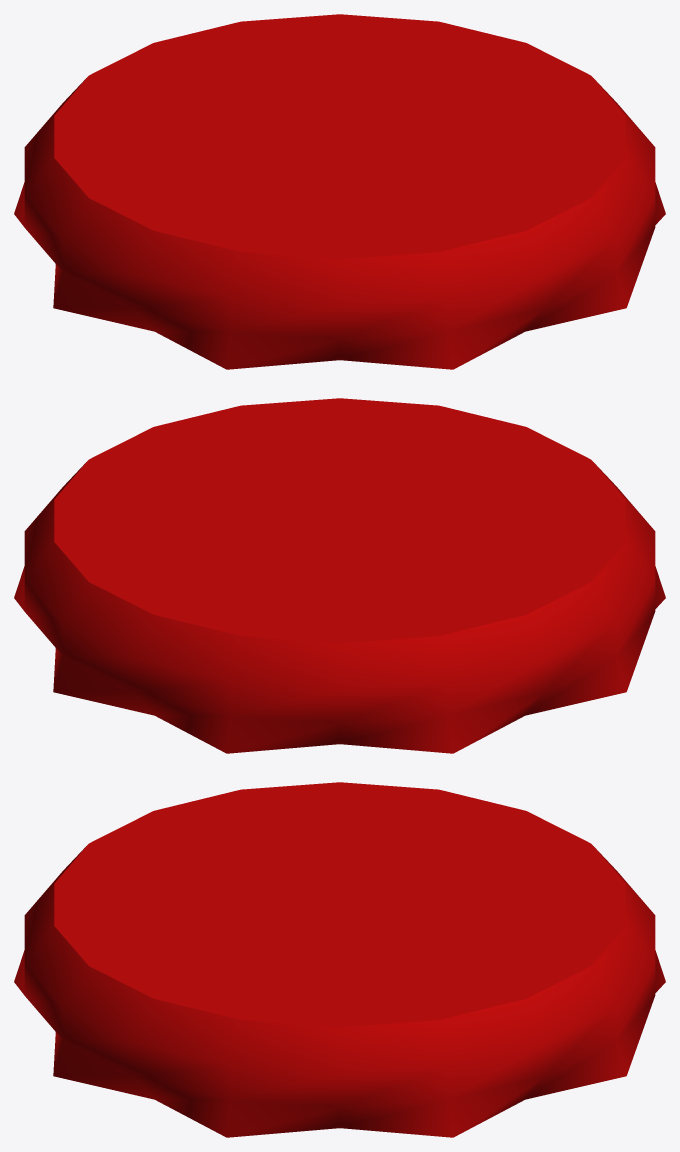
File: Bottlecap 1.FBX
3 views of the same model, one above another, from view 1: azimuth 30°, elevation 25°; view 2: azimuth 150°, elevation 25°; view 3: azimuth 270°, elevation 25° (orthographic).
Visible parts, largest first — view 1: Cylinder001; view 2: Cylinder001; view 3: Cylinder001.
Boxes of the visible parts, x1,y1,x2,y2 form: Cylinder001: [14, 14, 665, 369]; Cylinder001: [14, 398, 665, 753]; Cylinder001: [14, 782, 665, 1137].
Size of the model in its own units: 52.43 by 9.02 by 52.51.
